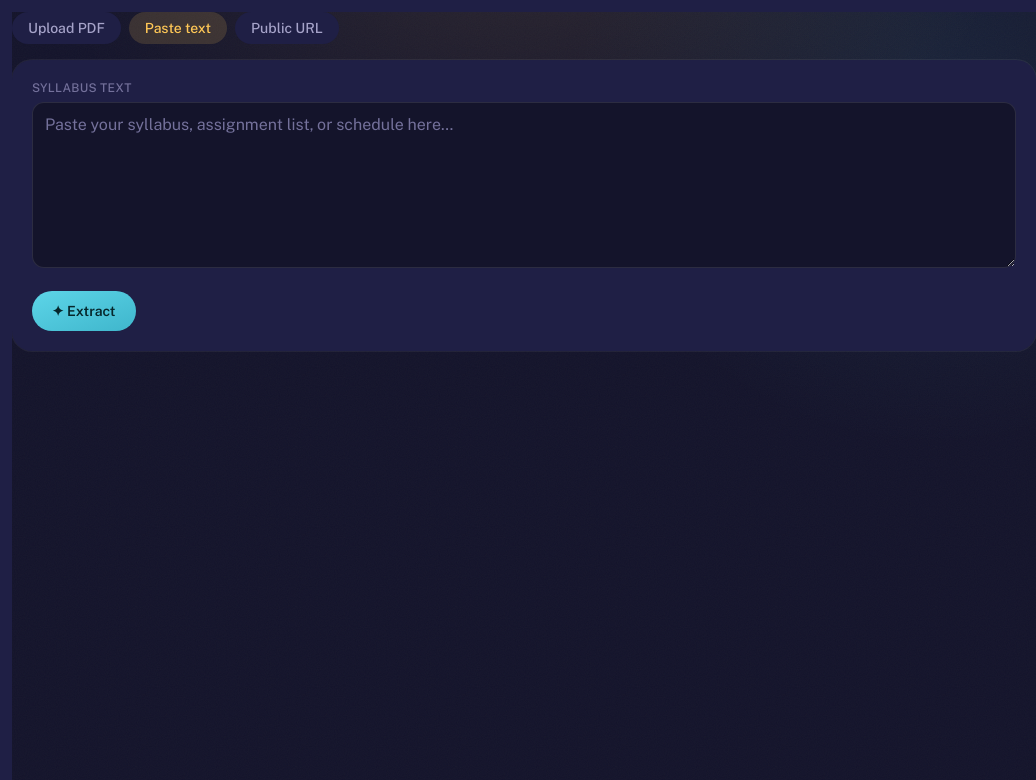
SyllabusImport › imports the selected items to the calendar
Type "x" into the text box labelled "Syllabus text". click: coordinates (524, 185)
box: [32,102,1016,268]
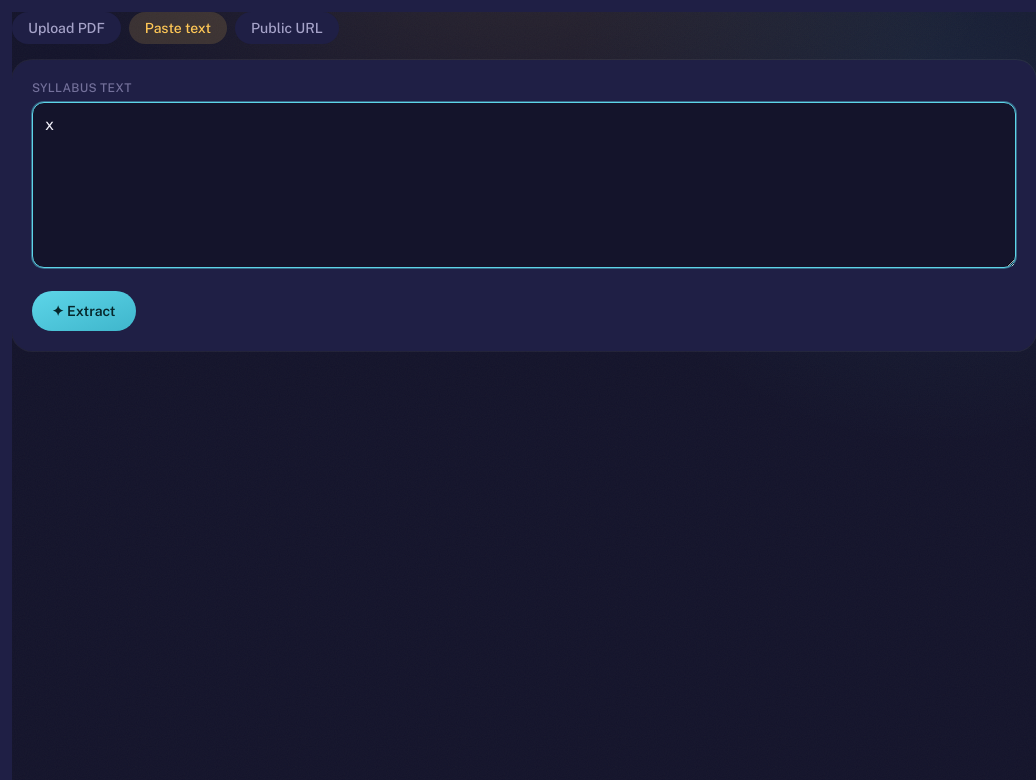
Click the button "✦ Extract". click: coordinates (84, 311)
box: [32,291,136,331]
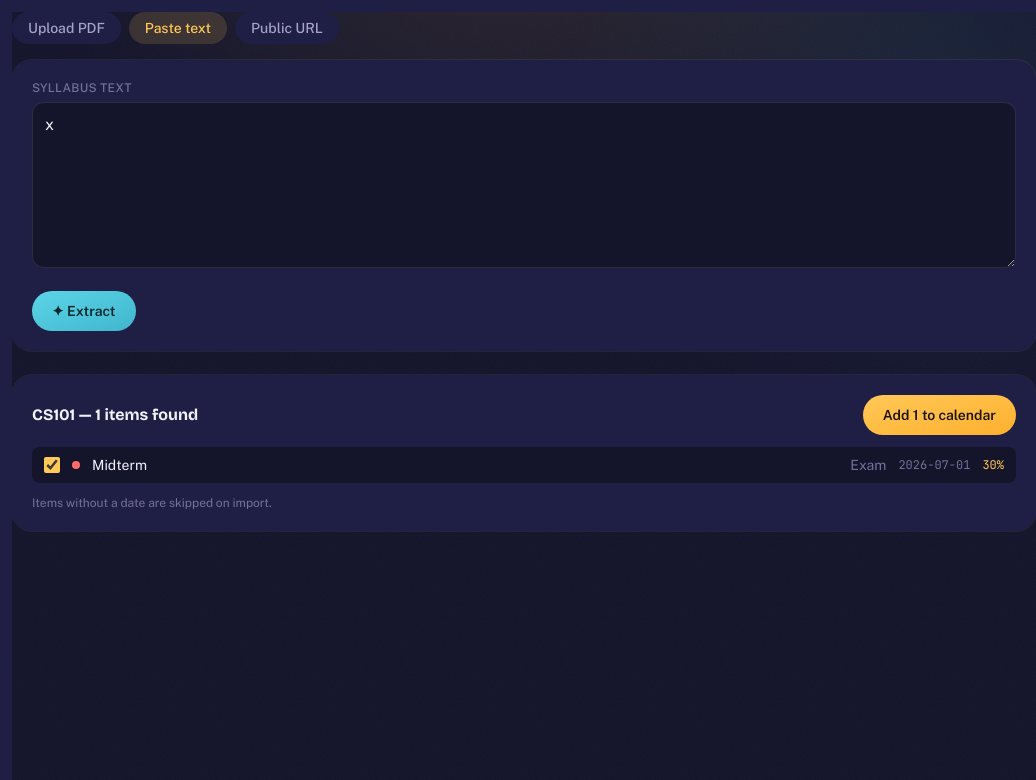
expect the text "Midterm" is shown: met, box [92,457,147,473]
Click the button "Add 1 to calendar". click: coordinates (939, 415)
box: [863,395,1016,435]
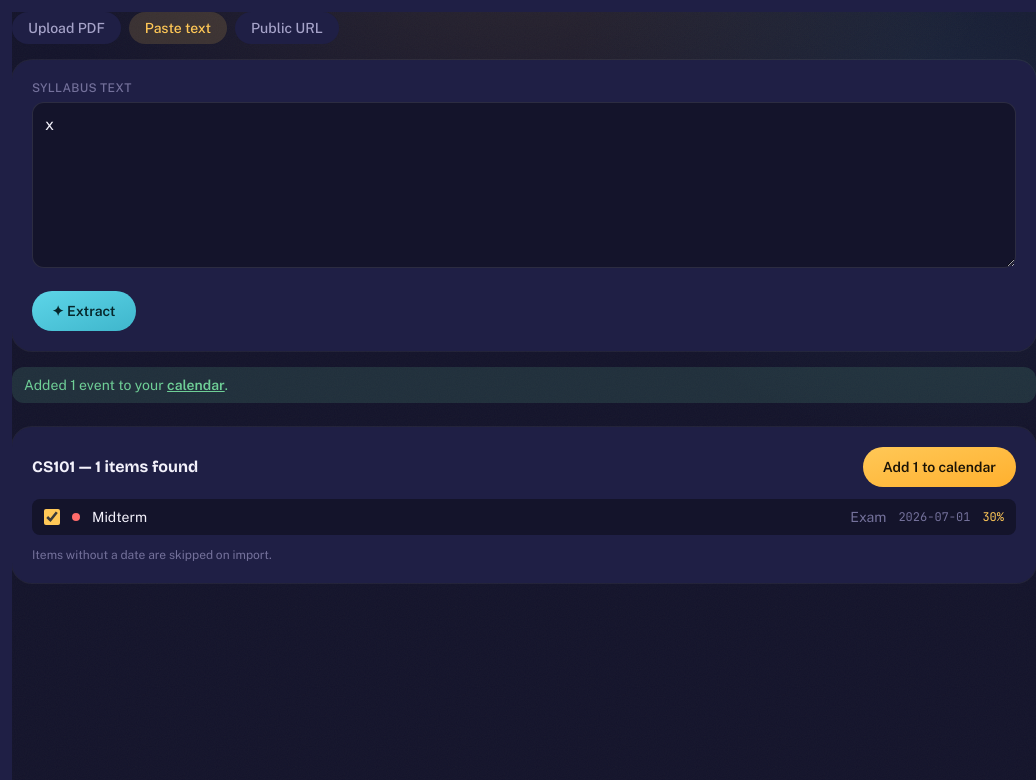
expect the text "Added 1 event to your calendar ." is shown: met, box [12,367,1035,403]
